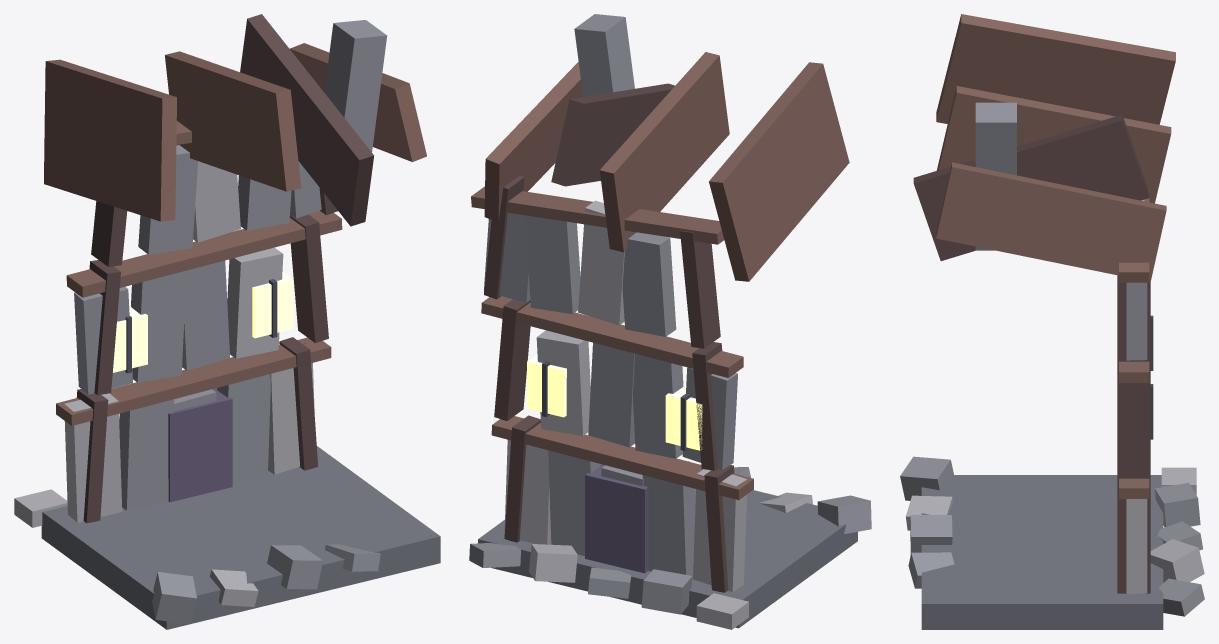
File: ruined_house_tall.glb
The picture shows the model from 3 angles, left to right: view 1: azimuth 30°, elevation 25°; view 2: azimuth 150°, elevation 25°; view 3: azimuth 270°, elevation 25°; orthographic projection. The views are drawn at different scales.
Visible parts, largest first — view 1: Moonpost Tall Ruined House; view 2: Moonpost Tall Ruined House; view 3: Moonpost Tall Ruined House.
Boxes of the visible parts, box(x1,y1,x2,y2) form: Moonpost Tall Ruined House: box(14, 14, 440, 629); Moonpost Tall Ruined House: box(469, 14, 871, 629); Moonpost Tall Ruined House: box(900, 14, 1204, 629).
Size of the model in its own units: 0.5283 by 0.8679 by 0.4797.
